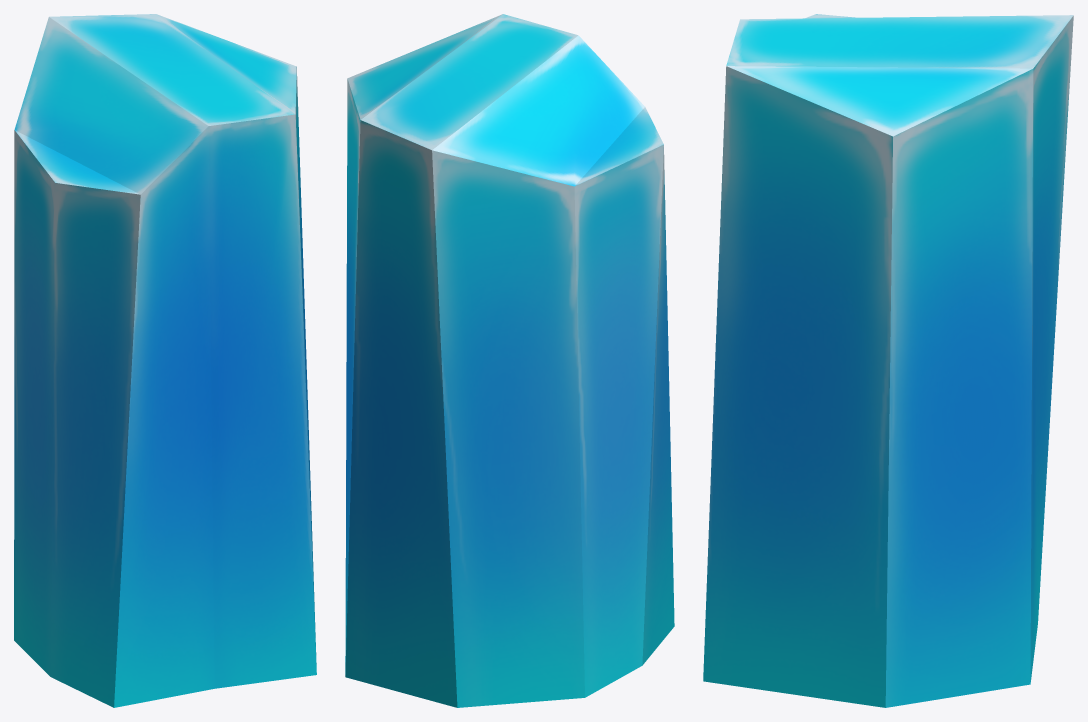
The model's file is Crystal_5.FBX.
3 views of the same model, side by side, from view 1: azimuth 30°, elevation 25°; view 2: azimuth 150°, elevation 25°; view 3: azimuth 270°, elevation 25° (orthographic). The views are drawn at different scales.
Parts seen in each view (by area): view 1: Crystal_5; view 2: Crystal_5; view 3: Crystal_5.
Part boxes in pixels (box(x1,y1,x2,y2)): Crystal_5: box(14, 14, 316, 707); Crystal_5: box(345, 14, 674, 707); Crystal_5: box(703, 14, 1073, 707).
Size of what is drawn, in the model's own units: 81.96 by 86.69 by 158.
